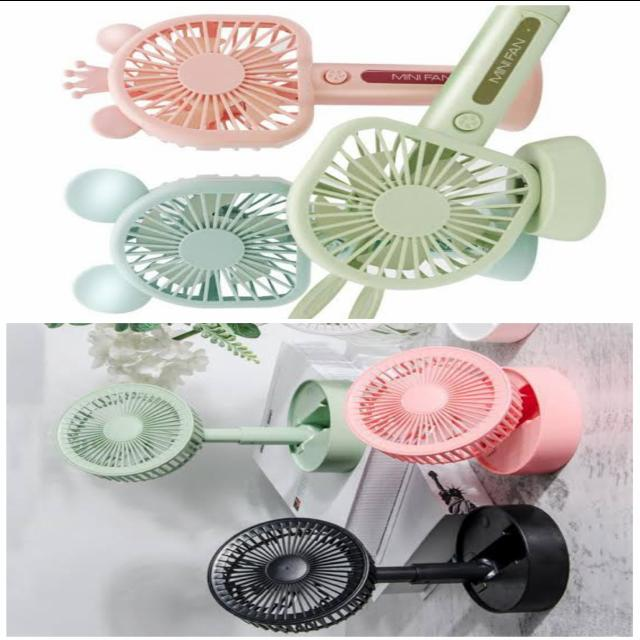fan: (55, 5, 570, 632)
